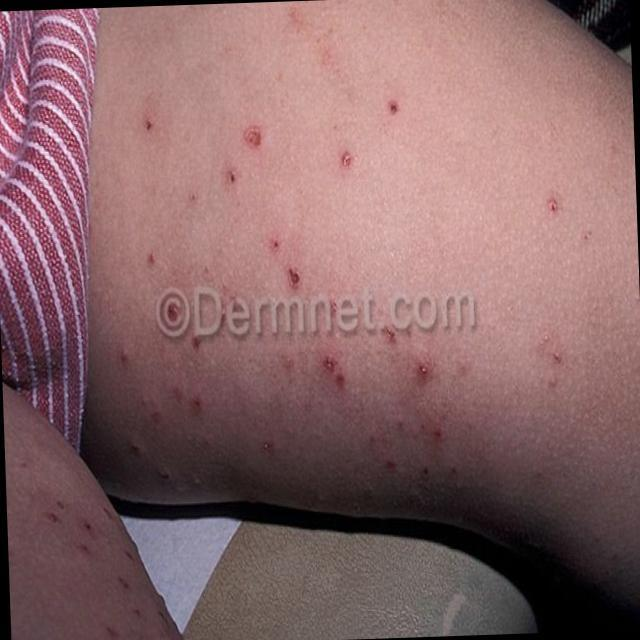Eczema: (95, 105, 591, 510), (44, 491, 174, 640)
